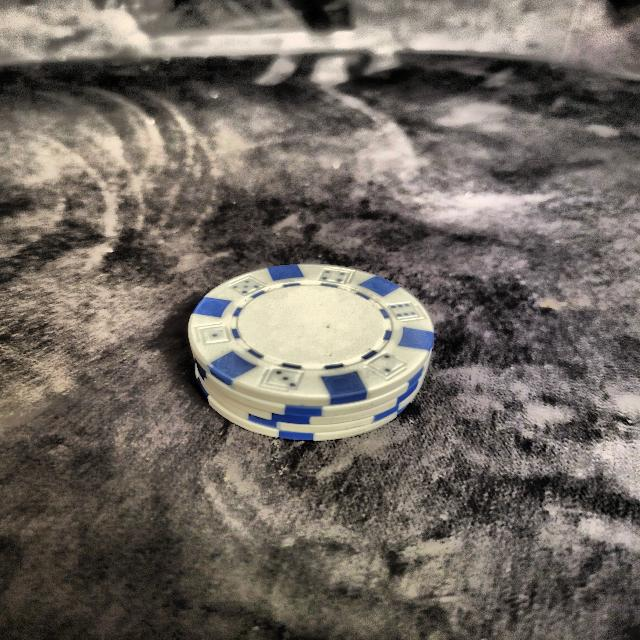Chip: (168, 236, 452, 453)
